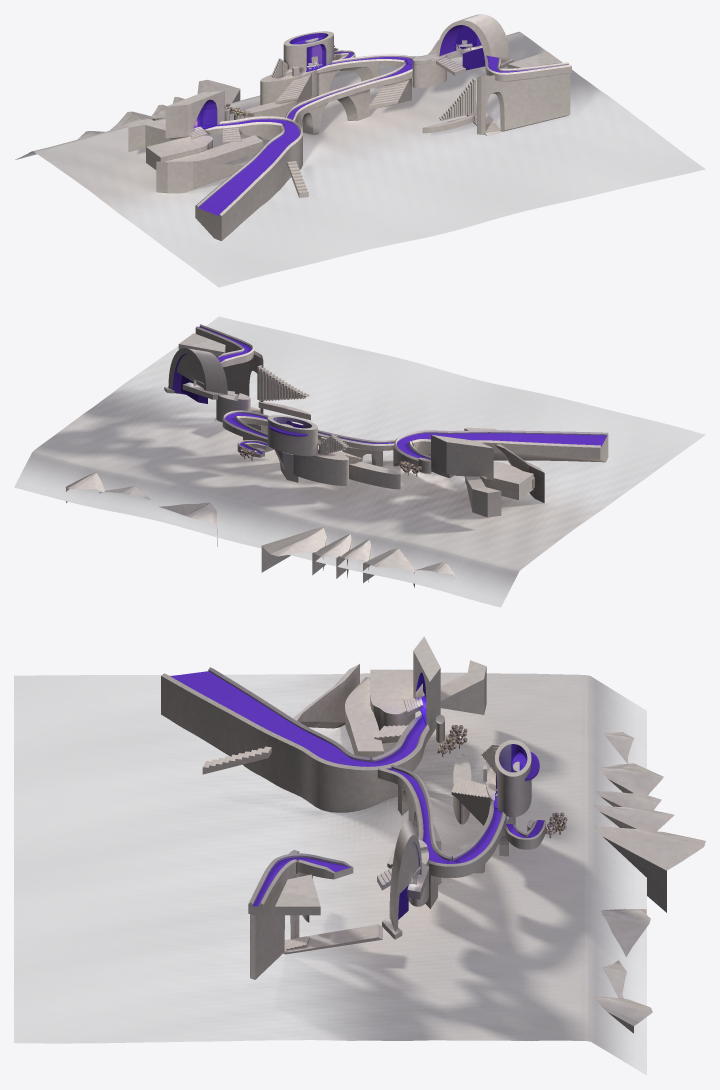
The model's file is landscape.glb.
The picture shows the model from 3 angles, top to bottom: view 1: azimuth 30°, elevation 25°; view 2: azimuth 150°, elevation 25°; view 3: azimuth 270°, elevation 25°; orthographic projection. The views are drawn at different scales.
Parts seen in each view (by area): view 1: terrain, path-development, terraces-left, mass-right, dest-support, dest-automation, viaduct-arches, path-bridge, dest-development, mountains, path-support, stairs-centre-right (+2 smaller); view 2: terrain, path-development, mountains, dest-automation, dest-support, terraces-left, dest-development, mass-right, viaduct-arches, path-bridge, path-support, fins-right; view 3: terrain, path-development, mountains, terraces-left, mass-right, path-bridge, dest-support, dest-automation, path-support, dest-development, viaduct-arches, stairs-left (+3 smaller).
Part boxes in pixels (<box>): terrain: <box>15,31,705,287</box>; path-development: <box>195,116,302,240</box>; terraces-left: <box>128,119,263,193</box>; mass-right: <box>422,51,570,135</box>; dest-support: <box>412,14,513,87</box>; dest-automation: <box>260,31,333,105</box>; viaduct-arches: <box>234,55,407,134</box>; path-bridge: <box>285,54,413,122</box>; dest-development: <box>165,90,229,138</box>; mountains: <box>77,40,438,139</box>; path-support: <box>485,55,571,81</box>; stairs-centre-right: <box>369,78,411,109</box>; terrain: <box>14,316,705,607</box>; path-development: <box>393,430,608,478</box>; mountains: <box>65,472,457,587</box>; dest-automation: <box>267,415,348,485</box>; dest-support: <box>164,348,250,422</box>; terraces-left: <box>464,444,544,517</box>; dest-development: <box>418,435,493,480</box>; mass-right: <box>178,333,310,422</box>; viaduct-arches: <box>248,439,400,489</box>; path-bridge: <box>222,410,398,450</box>; path-support: <box>195,324,254,367</box>; fins-right: <box>257,365,309,401</box>; terrain: <box>14,672,646,1075</box>; path-development: <box>161,667,435,812</box>; mountains: <box>594,732,705,1033</box>; terraces-left: <box>293,660,486,757</box>; mass-right: <box>250,850,382,979</box>; path-bridge: <box>378,764,506,877</box>; dest-support: <box>382,820,429,939</box>; dest-automation: <box>483,740,539,842</box>; path-support: <box>248,853,353,917</box>; dest-development: <box>413,636,444,742</box>; viaduct-arches: <box>398,753,535,884</box>; stairs-left: <box>451,776,490,825</box>.
Size of the model in its own units: 48 by 11.75 by 38.26.
2 materials, 2 textured.
